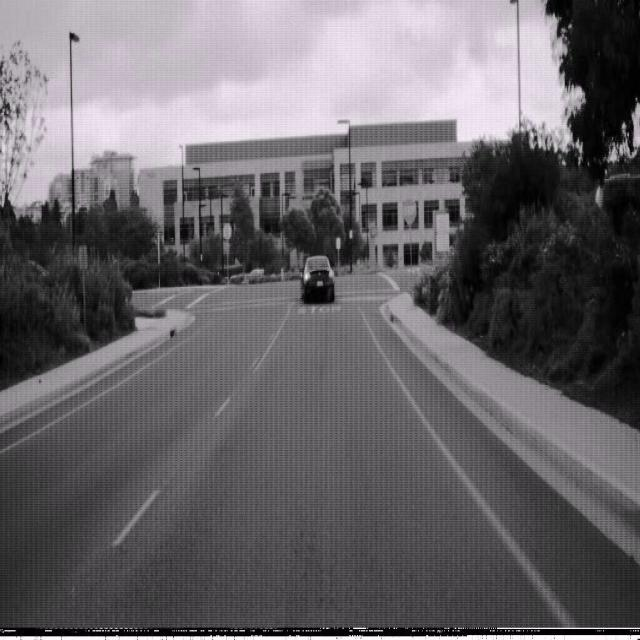stop: (402, 195, 417, 226)
